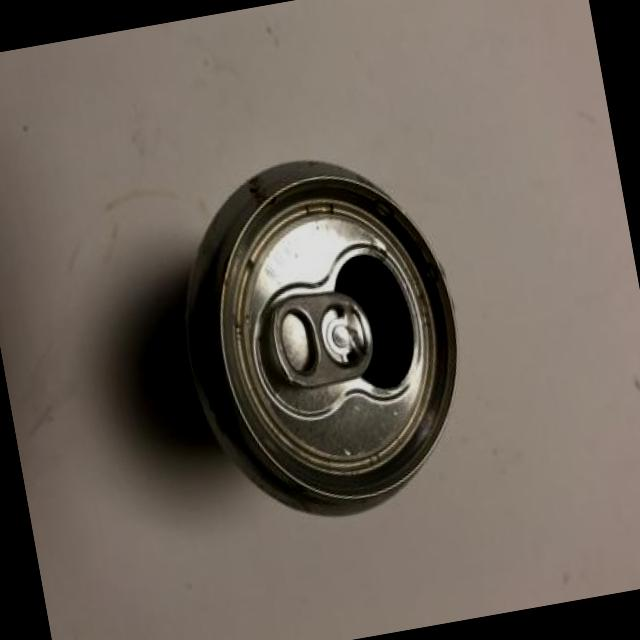kim_loai: (182, 158, 457, 515)
